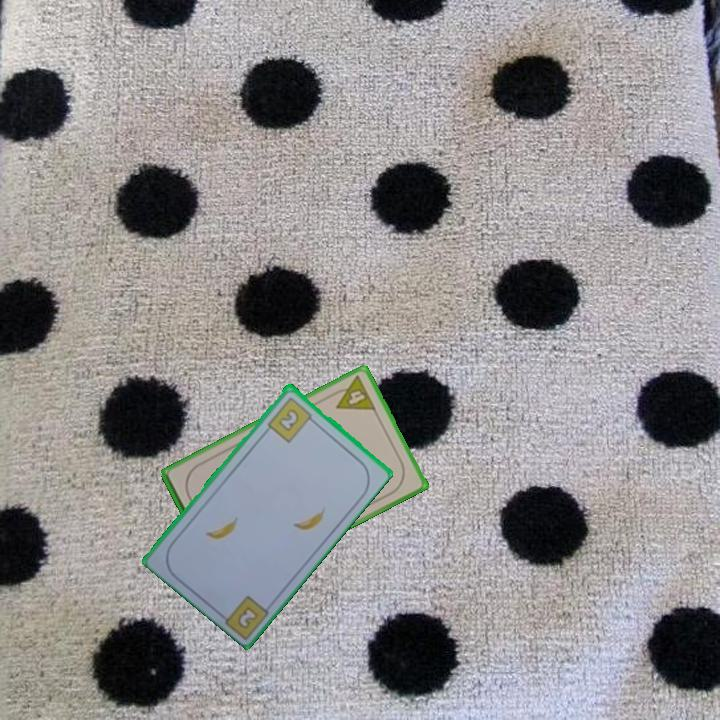2b: (264, 393, 318, 445), (236, 605, 259, 630)
4p: (327, 372, 379, 413)
